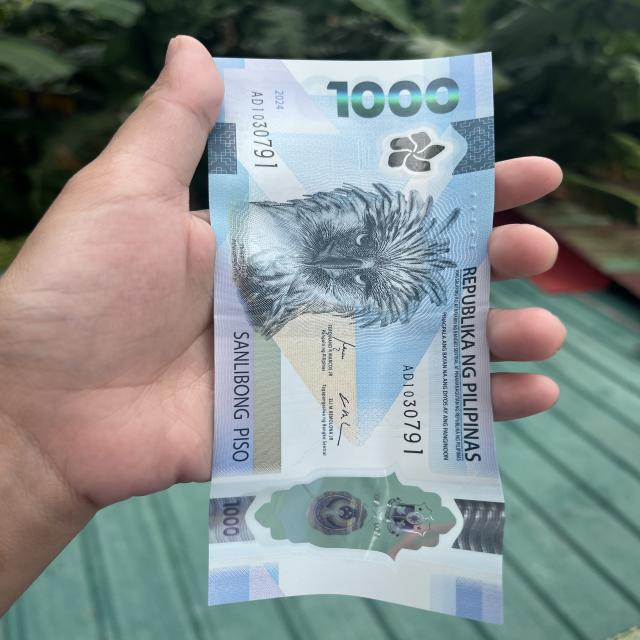clear_window: (247, 470, 461, 563)
eagle: (230, 188, 452, 327)
sampaguita: (348, 124, 456, 184)
security_thread: (213, 317, 487, 339)
serial_number: (236, 87, 290, 183), (394, 358, 444, 454)
watermark: (217, 491, 241, 550)
